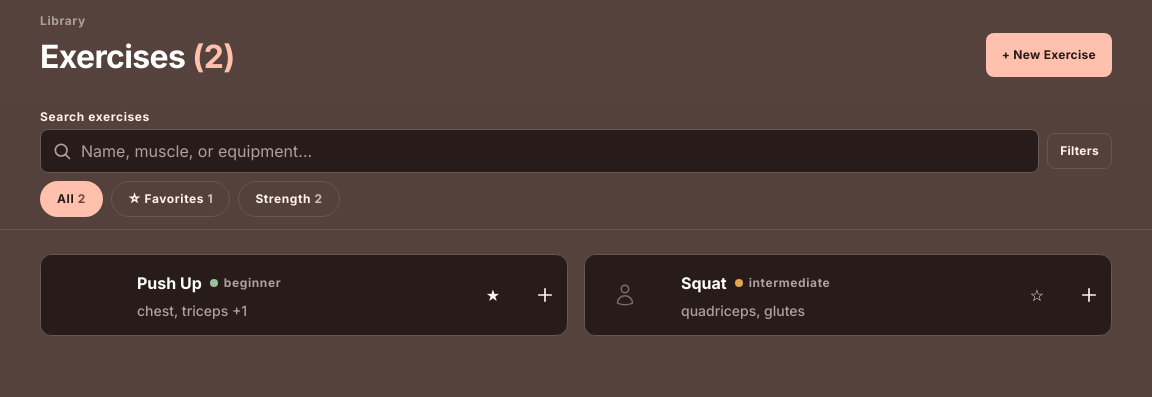
ExercisesPage filter dropdowns › filtering by Force dropdown filters exercises
Check: the heading "Push Up" is shown, box [137,271,202,295]
Check: the heading "Squat" is shown, box [681,271,727,295]
Click the button "Filters": coordinates (1080, 151) [1047,133,1112,169]
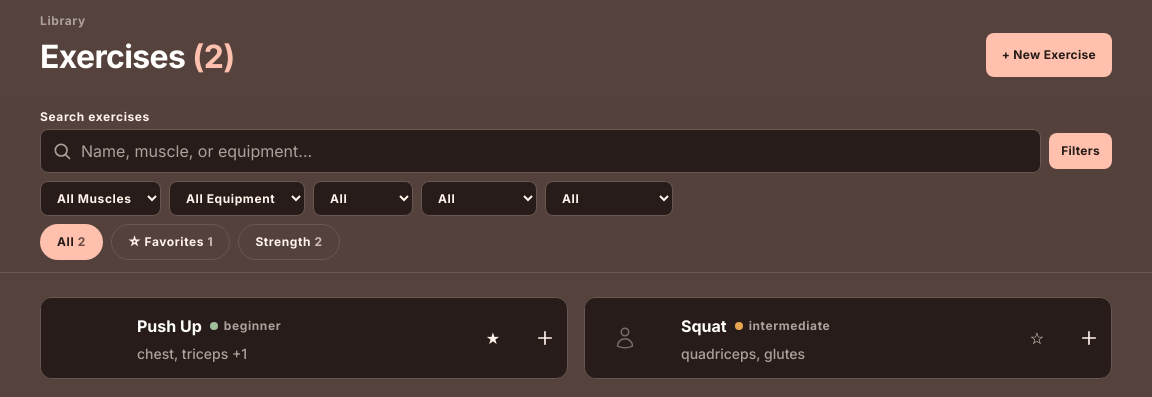
Select "Push" in the dropdown named "Force": coordinates (363, 198) [313,181,413,216]
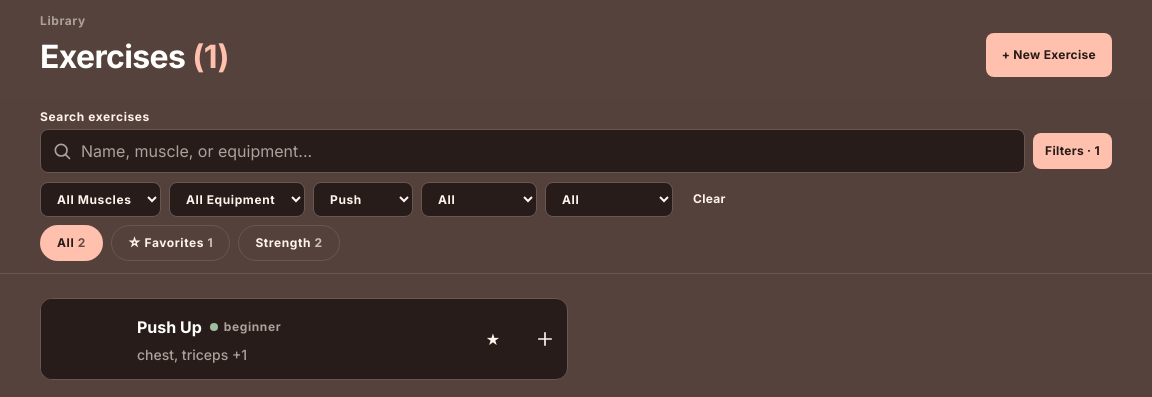
Check: the heading "Push Up" is shown, box [137,315,202,339]
Check: the heading "Squat" is gone
